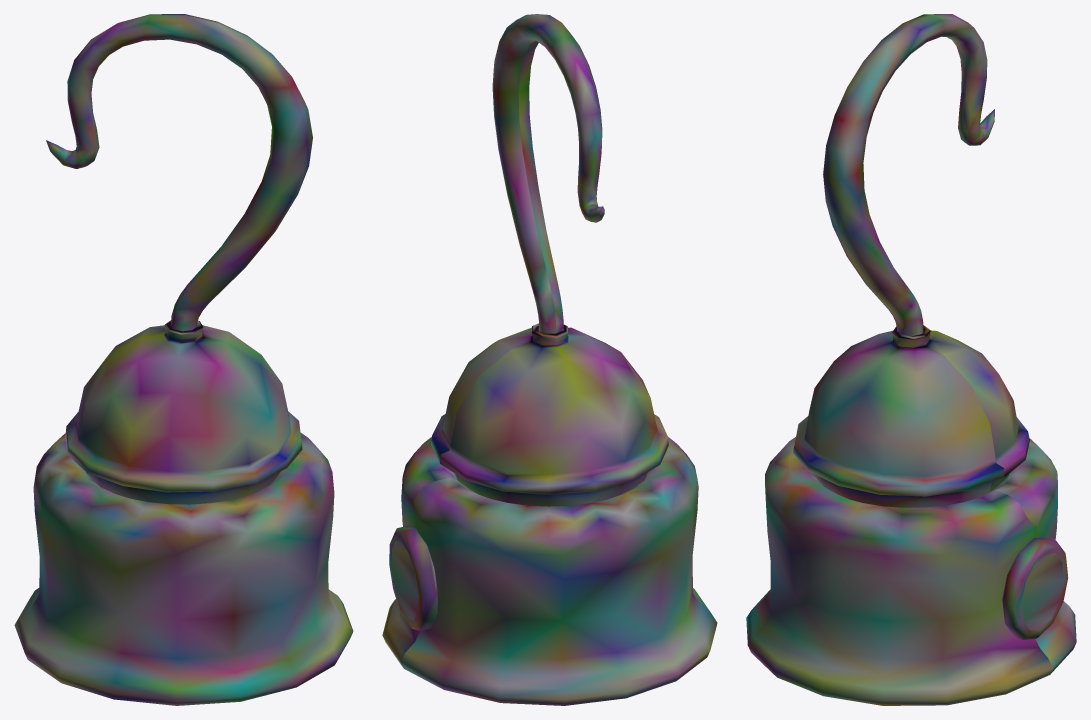
Rendered from Antenna_Hook_SM.gltf.
3 views of the same model, side by side, from view 1: azimuth 30°, elevation 25°; view 2: azimuth 150°, elevation 25°; view 3: azimuth 270°, elevation 25° (orthographic).
Parts seen in each view (by area): view 1: Antenna_Hook_SM; view 2: Antenna_Hook_SM; view 3: Antenna_Hook_SM.
Part boxes in pixels (x1=…): Antenna_Hook_SM: x1=14, y1=14, x2=353, y2=705; Antenna_Hook_SM: x1=382, y1=14, x2=717, y2=705; Antenna_Hook_SM: x1=746, y1=14, x2=1076, y2=705.
Size of the model in its own units: 0.0764 by 0.1573 by 0.0764.
